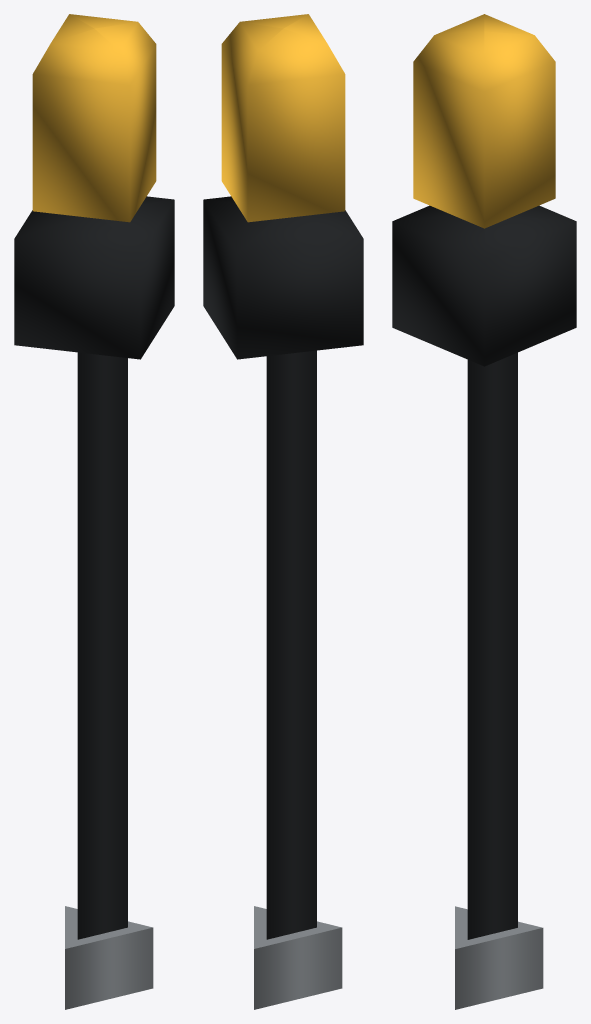
Rendered from mooring_light_LOD2.glb.
The picture shows the model from 3 angles, left to right: view 1: azimuth 30°, elevation 25°; view 2: azimuth 150°, elevation 25°; view 3: azimuth 270°, elevation 25°; orthographic projection.
Parts seen in each view (by area): view 1: CornerLight; view 2: CornerLight; view 3: CornerLight.
Boxes of the visible parts, bbox=[...] form: CornerLight: bbox=[14, 14, 174, 1009]; CornerLight: bbox=[203, 14, 363, 1009]; CornerLight: bbox=[392, 14, 576, 1009].
Bounding box in the file's own units: 0.22 × 1.26 × 0.22.
